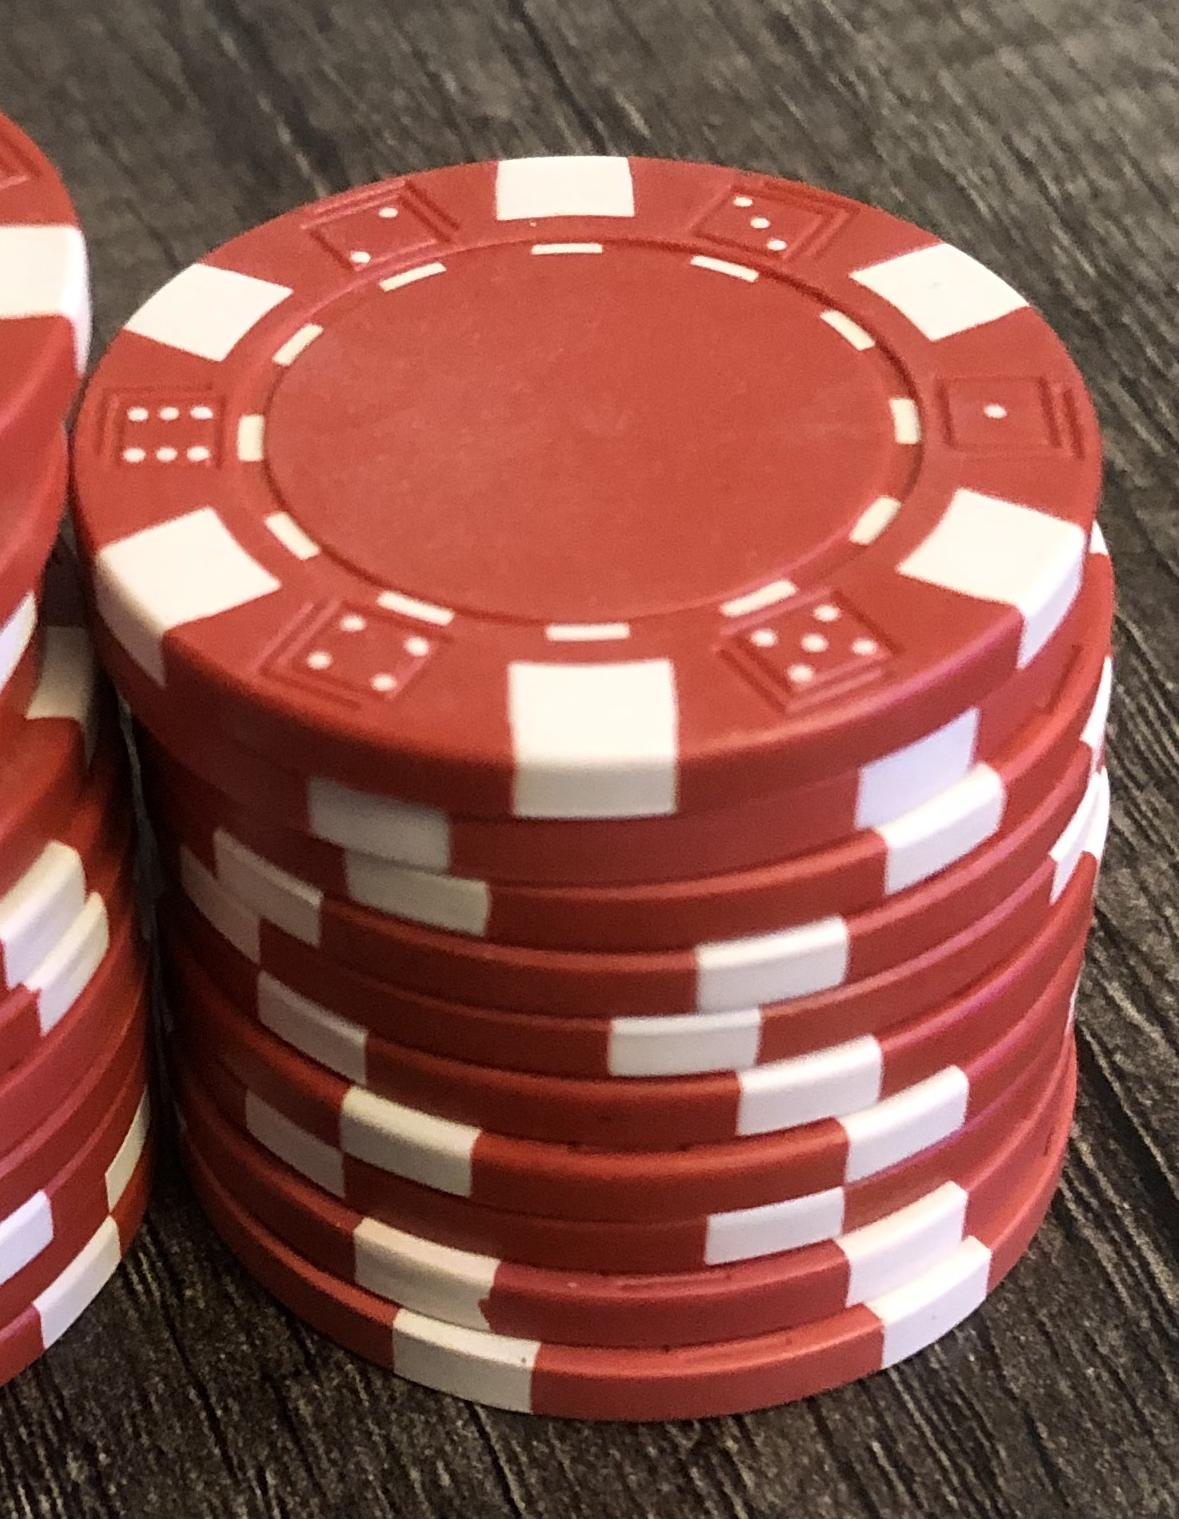Chip: (1, 1, 1179, 1519)
